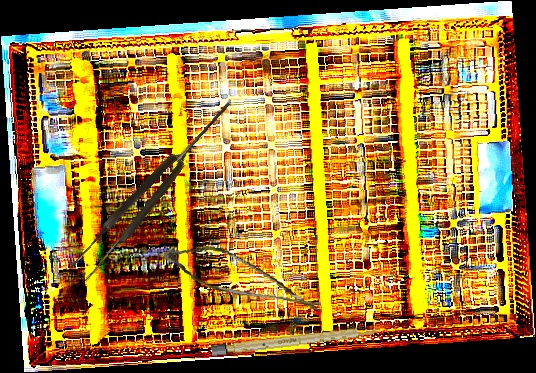Micro Scissor: (159, 240, 331, 314)
Scalpel Handle: (210, 324, 379, 357)
Tissue Forceps: (67, 94, 241, 284)
